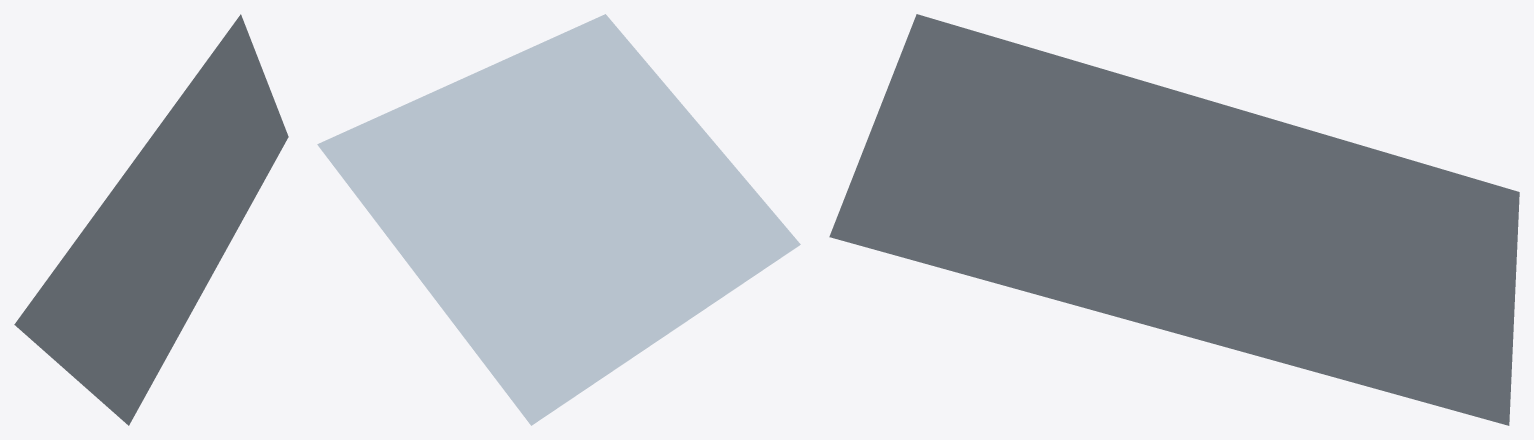
The model's file is plantar-cuboideonavicular-ligament-r.glb.
3 views of the same model, side by side, from view 1: azimuth 30°, elevation 25°; view 2: azimuth 150°, elevation 25°; view 3: azimuth 270°, elevation 25° (orthographic). The views are drawn at different scales.
Visible parts, largest first — view 1: Plantar cuboideonavicular ligament.r; view 2: Plantar cuboideonavicular ligament.r; view 3: Plantar cuboideonavicular ligament.r.
Part boxes in pixels (bbox=[...]): Plantar cuboideonavicular ligament.r: bbox=[14, 14, 288, 425]; Plantar cuboideonavicular ligament.r: bbox=[317, 14, 800, 425]; Plantar cuboideonavicular ligament.r: bbox=[829, 14, 1519, 425].
Bounding box in the file's own units: 0.00661 × 0.00583 × 0.00743.
